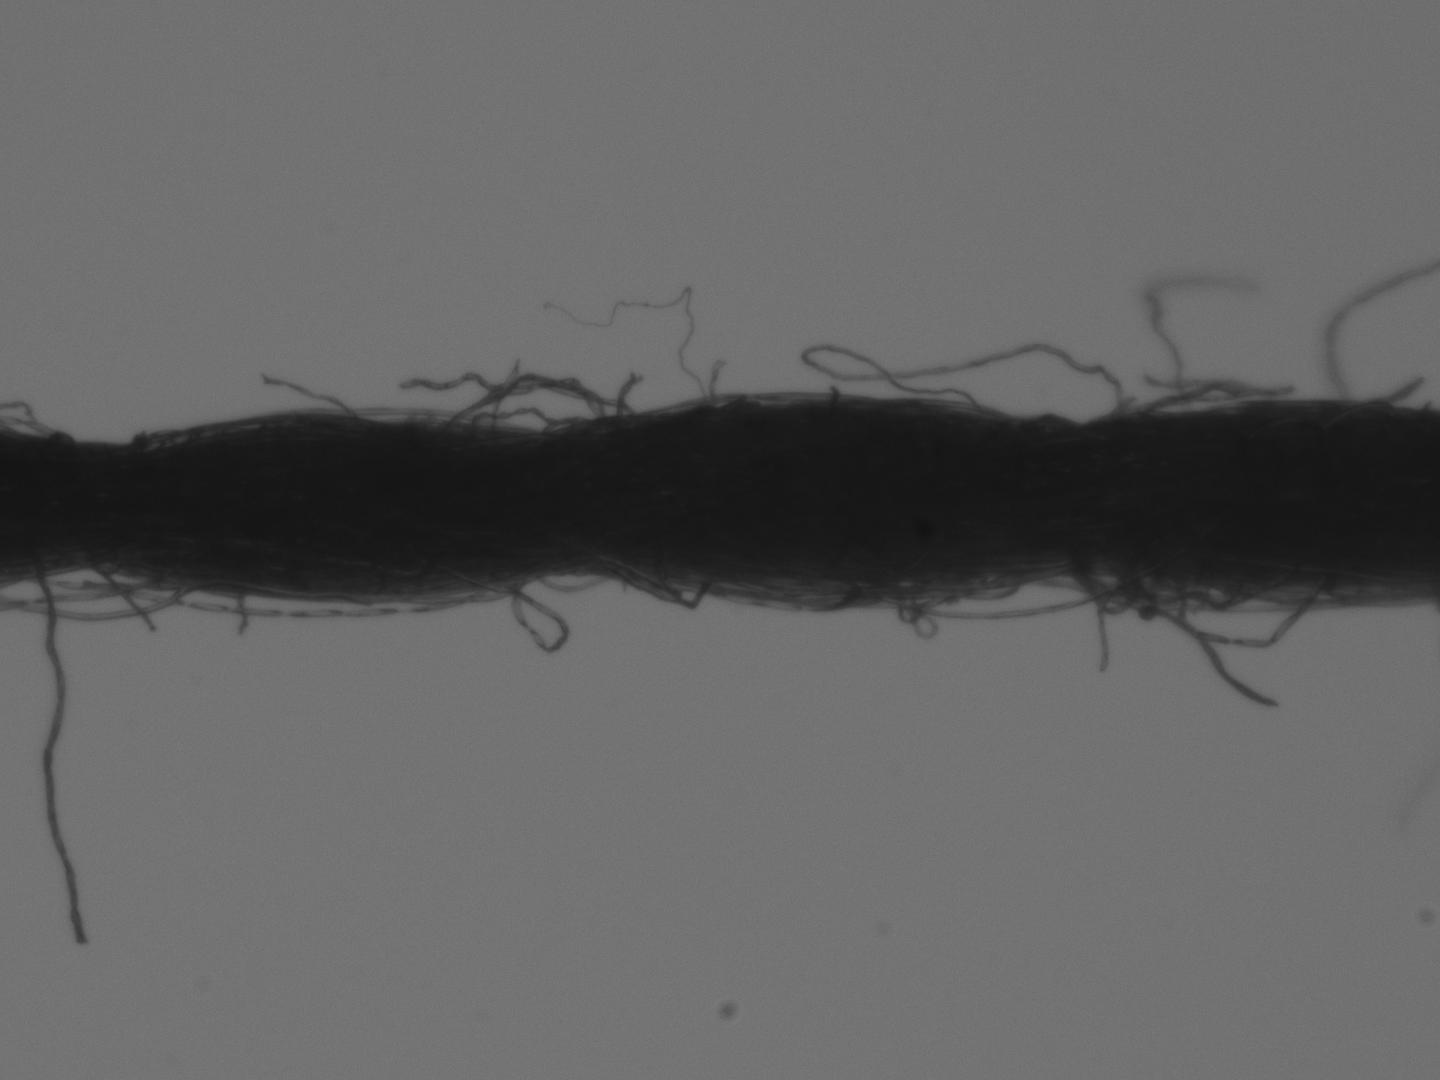loop_fiber: (454, 376, 616, 428), (494, 370, 600, 434), (1129, 567, 1280, 611), (704, 574, 859, 613), (865, 581, 972, 634), (39, 564, 151, 601), (622, 568, 717, 611), (1070, 563, 1134, 618), (466, 406, 578, 436), (534, 567, 617, 600), (84, 559, 112, 579)
protruding_fiber: (36, 572, 82, 951), (261, 366, 346, 416), (229, 590, 244, 641)
